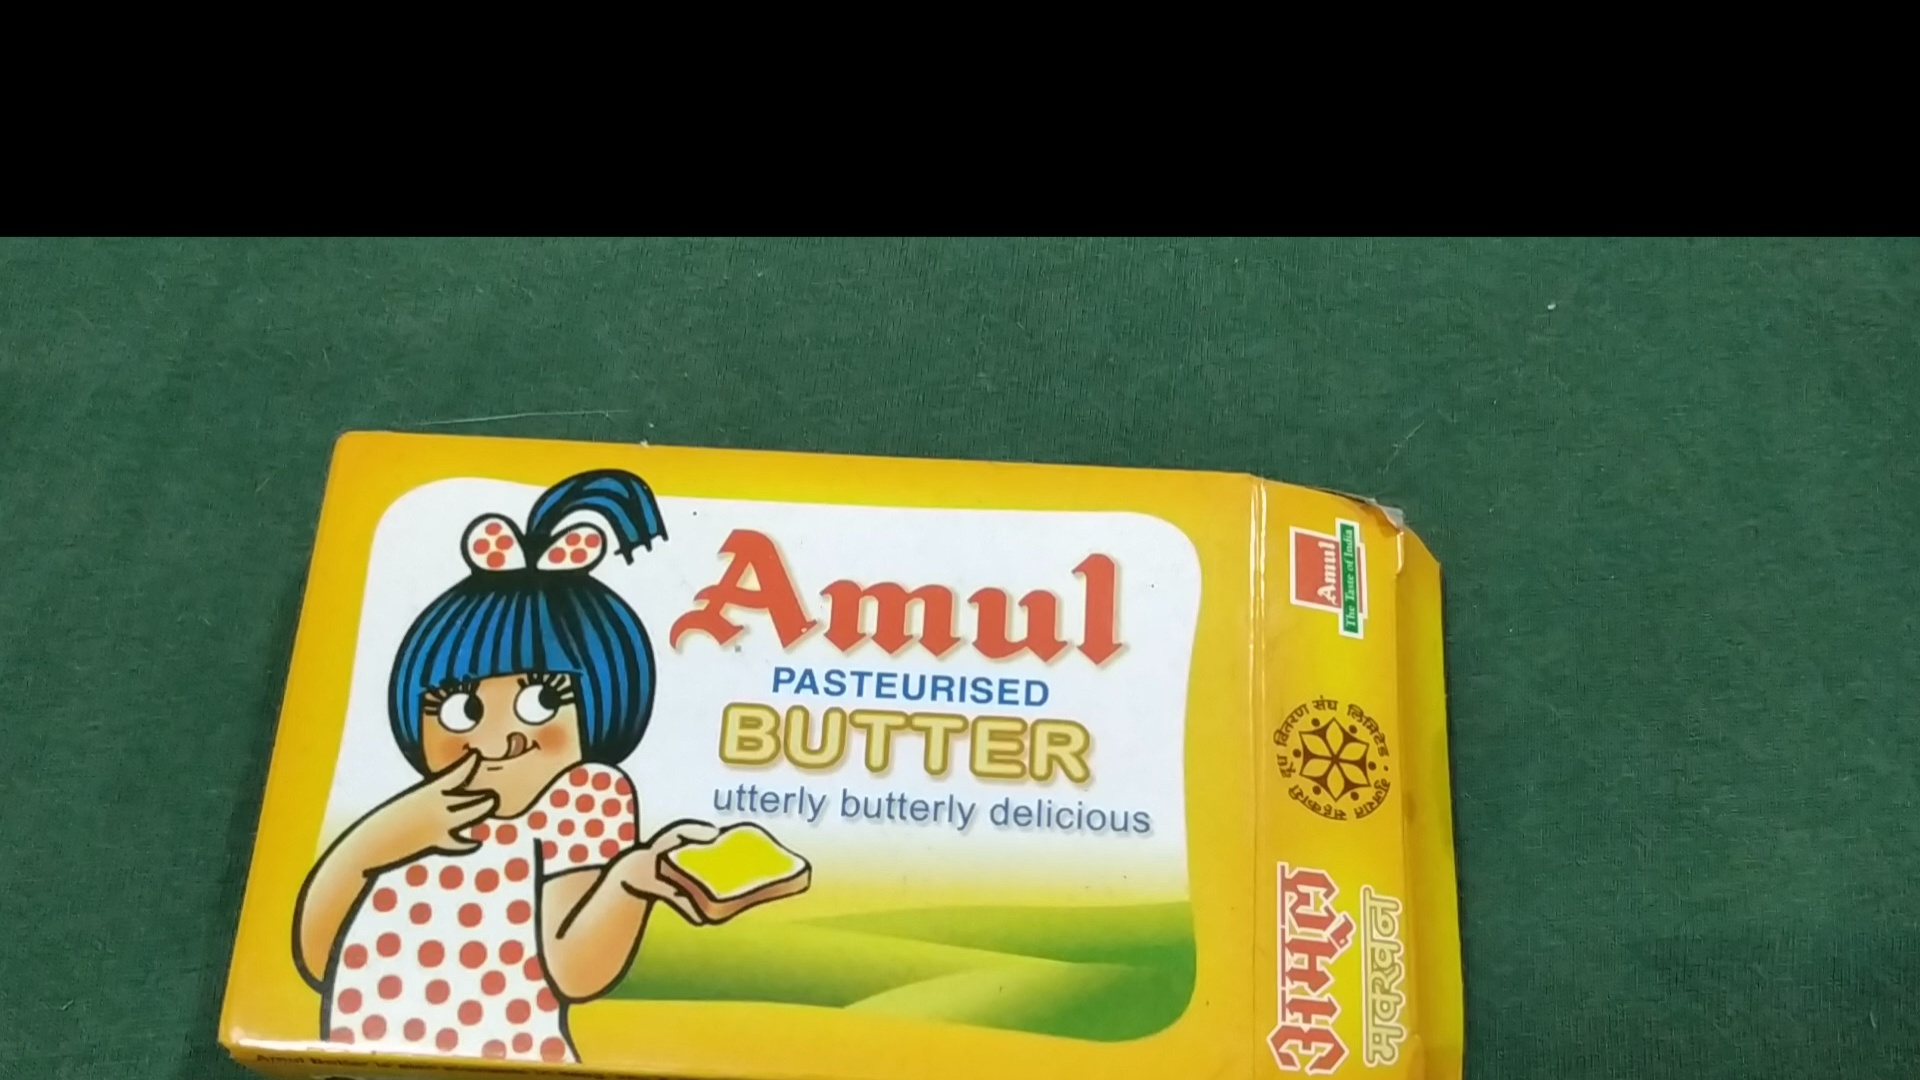amul_butter: (210, 430, 1457, 1080)
